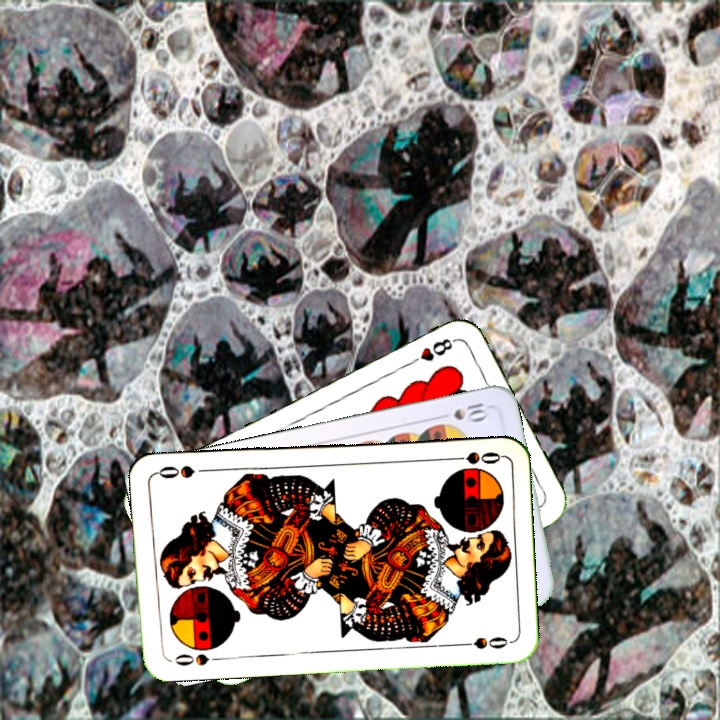H8: (404, 334, 459, 369)
S10: (433, 396, 491, 424)
SO: (444, 448, 503, 467), (171, 650, 223, 668)
